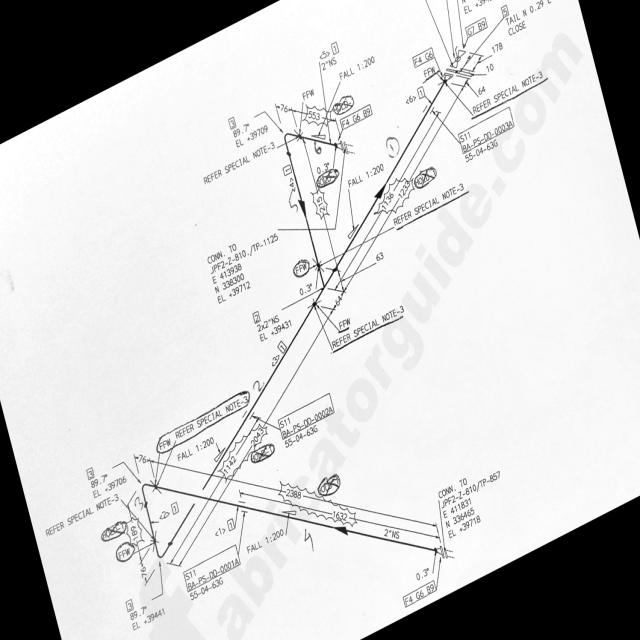Item number: (182, 541, 242, 594), (276, 390, 337, 442), (457, 104, 516, 156), (401, 577, 439, 611), (339, 101, 375, 132), (464, 15, 489, 40), (411, 45, 435, 68), (276, 338, 289, 356), (250, 307, 262, 326), (228, 114, 238, 136), (226, 515, 237, 534), (500, 2, 511, 21), (170, 499, 181, 517), (330, 40, 341, 57), (124, 597, 135, 614), (416, 84, 427, 101), (282, 162, 293, 178), (85, 466, 95, 482)
Measrement: (340, 86, 468, 293), (150, 454, 438, 531), (331, 111, 444, 289), (229, 308, 337, 481), (166, 414, 265, 565), (237, 486, 443, 543), (300, 138, 347, 293), (128, 559, 167, 623), (89, 459, 144, 491), (341, 249, 385, 286), (124, 500, 145, 567), (291, 102, 339, 129), (471, 40, 506, 71), (255, 311, 284, 335), (463, 76, 487, 100), (470, 60, 498, 77), (297, 278, 314, 301), (320, 55, 340, 74), (232, 121, 251, 141), (273, 99, 294, 116), (413, 564, 431, 583), (140, 557, 151, 588), (330, 291, 347, 311), (133, 452, 153, 468), (315, 160, 331, 177), (383, 527, 401, 541)
Pipeline: (138, 80, 450, 563)
Symbol: (310, 260, 340, 312), (280, 128, 303, 159), (138, 478, 159, 511), (149, 536, 174, 561), (434, 542, 457, 564), (334, 138, 358, 157), (296, 192, 310, 221), (332, 522, 351, 541), (449, 48, 466, 69), (372, 181, 388, 203), (213, 445, 227, 467), (443, 72, 453, 83), (445, 67, 458, 74)
other: (435, 456, 513, 542), (153, 386, 251, 453), (204, 224, 283, 307), (328, 300, 409, 356), (201, 139, 277, 188), (44, 491, 120, 539), (344, 160, 386, 191), (130, 603, 169, 635), (245, 526, 285, 556), (175, 435, 216, 464), (338, 53, 377, 83), (257, 315, 294, 346), (91, 474, 129, 502), (282, 423, 321, 450), (188, 576, 225, 604), (235, 122, 269, 150), (336, 315, 354, 333), (301, 85, 316, 101)
